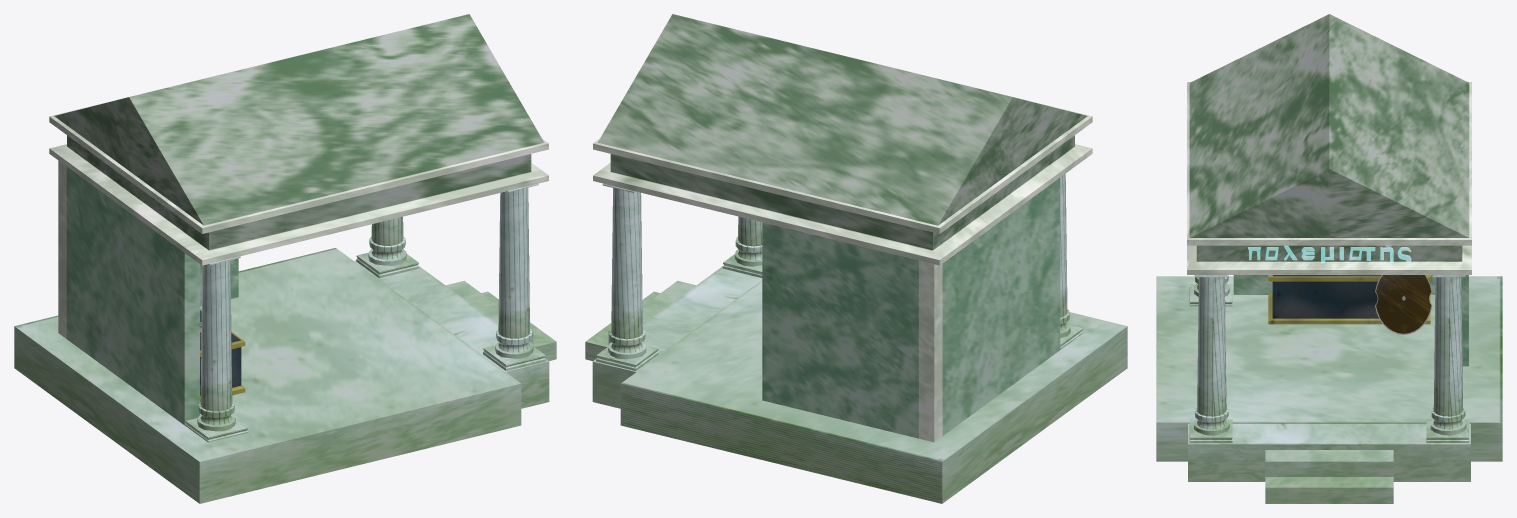
File: temple_doric_medium.glb
3 views of the same model, side by side, from view 1: azimuth 30°, elevation 25°; view 2: azimuth 150°, elevation 25°; view 3: azimuth 270°, elevation 25° (orthographic). The views are drawn at different scales.
Parts seen in each view (by area): view 1: Object_3, Object_2; view 2: Object_3, Object_2; view 3: Object_3, Object_2.
Boxes of the visible parts, x1=… form: Object_3: x1=49, y1=14, x2=548, y2=425; Object_2: x1=14, y1=183, x2=556, y2=503; Object_3: x1=593, y1=14, x2=1092, y2=442; Object_2: x1=585, y1=174, x2=1127, y2=503; Object_3: x1=1187, y1=14, x2=1471, y2=366; Object_2: x1=1156, y1=245, x2=1502, y2=503.
Size of the model in its own units: 4.06 by 3.12 by 3.15.
2 materials, 2 textured.
